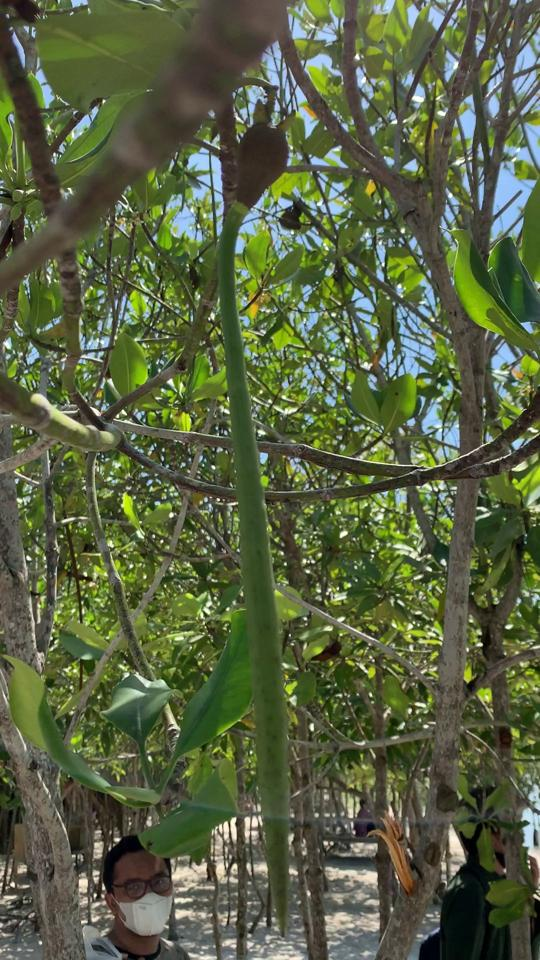setengah matang: (206, 99, 301, 934)
